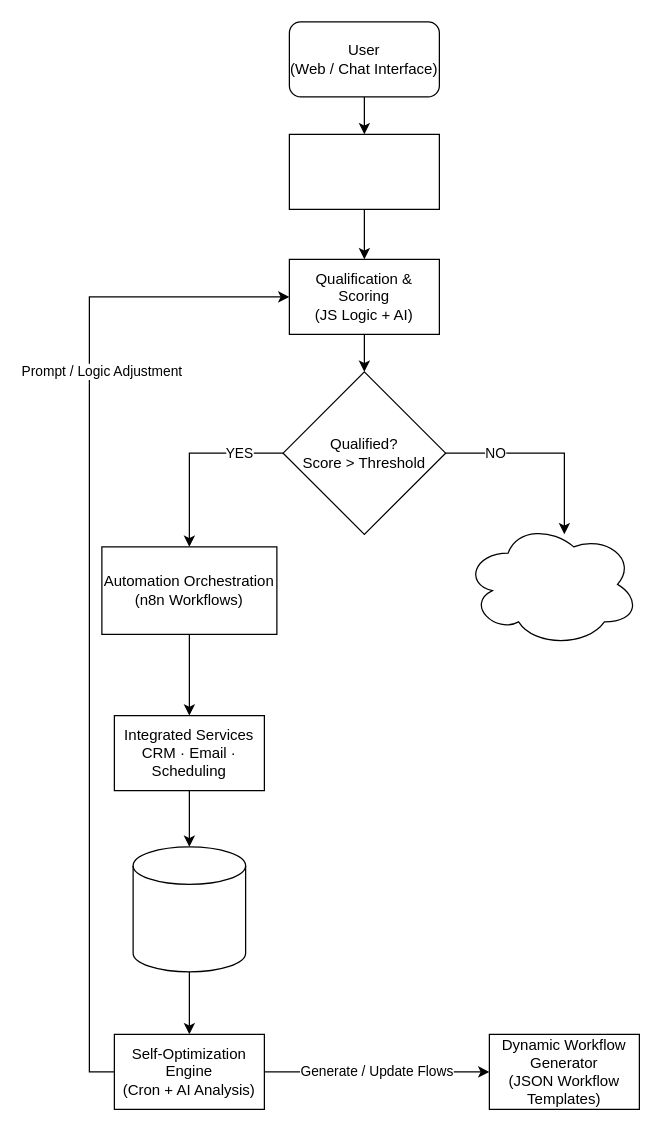
The diagram is 661 pixels wide and 1131 high, and some of its shapes have lost their labels. Here are the shapes that lost their labels. From the top down, the box of each, then its label:
(288, 133, 439, 209): Chatbot Hub (n8n Chat Trigger + LLM)
(463, 521, 639, 647): Human Escalation (Slack Notification)
(132, 846, 246, 972): Metrics & Tracking (Logs / Sheets)
